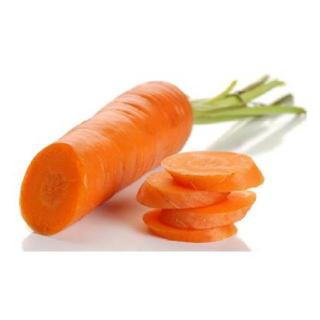carrot: (19, 80, 195, 236)
